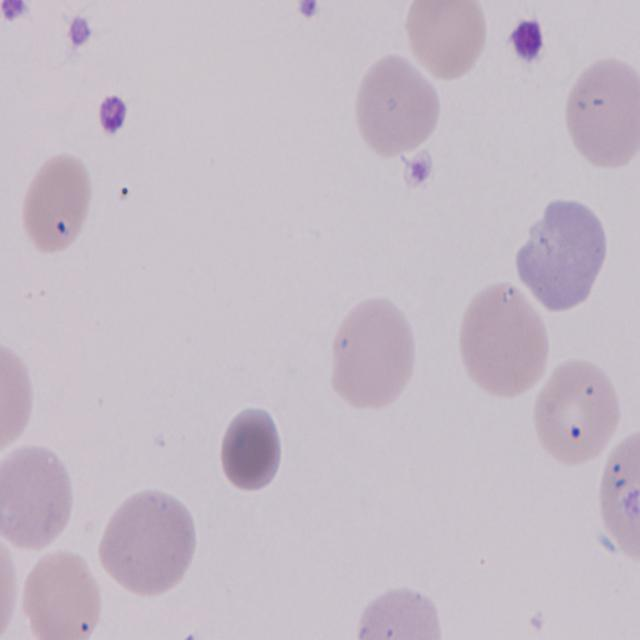RBC: (457, 279, 553, 399), (100, 486, 198, 600), (533, 353, 621, 468), (329, 297, 419, 408), (18, 140, 98, 264), (350, 54, 440, 164), (562, 54, 640, 177), (1, 436, 78, 554), (19, 545, 104, 640), (401, 2, 487, 84), (352, 586, 456, 640), (0, 333, 35, 460)
Spherocyte: (220, 408, 284, 498)
